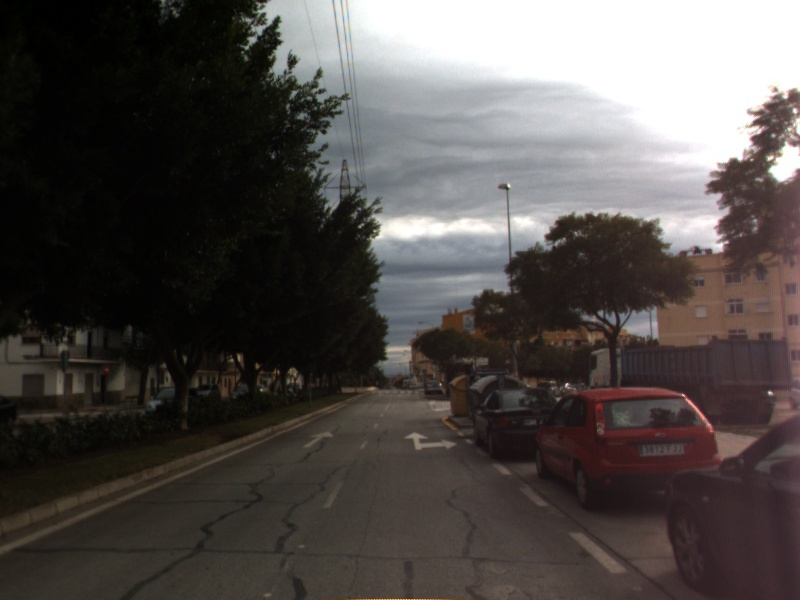STRAIGHT: (300, 429, 337, 450)
STRAIGHT_RIGHT: (402, 430, 460, 452)
